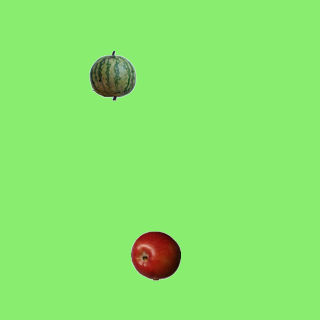Apple Braeburn: (130, 230, 180, 280)
Watermelon: (87, 50, 137, 100)
